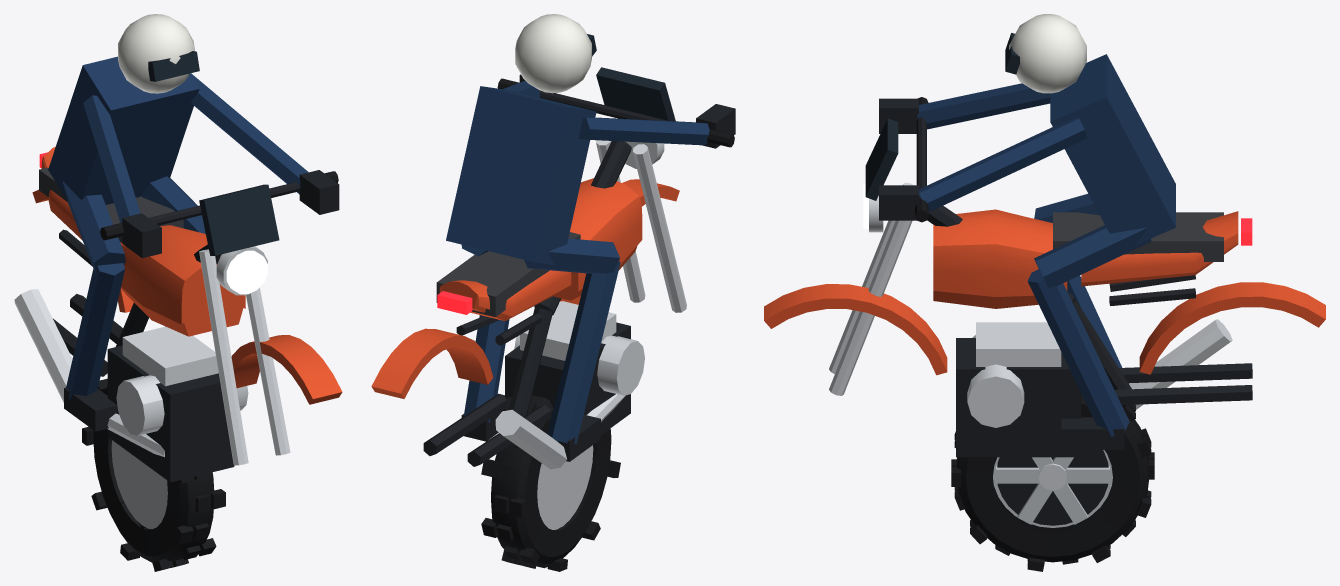
Rendered from trail.glb.
The picture shows the model from 3 angles, left to right: view 1: azimuth 30°, elevation 25°; view 2: azimuth 150°, elevation 25°; view 3: azimuth 270°, elevation 25°; orthographic projection.
Visible parts, largest first — view 1: body, wheel; view 2: body, wheel; view 3: body, wheel.
Part boxes in pixels (left/top/right/bottom): body: left=14, top=14, right=342, bottom=482; wheel: left=82, top=378, right=225, bottom=571; body: left=371, top=14, right=735, bottom=469; wheel: left=481, top=395, right=620, bottom=571; body: left=764, top=14, right=1325, bottom=457; wheel: left=951, top=394, right=1154, bottom=571.
Size of the model in its own units: 0.94 by 2.11 by 1.97.
